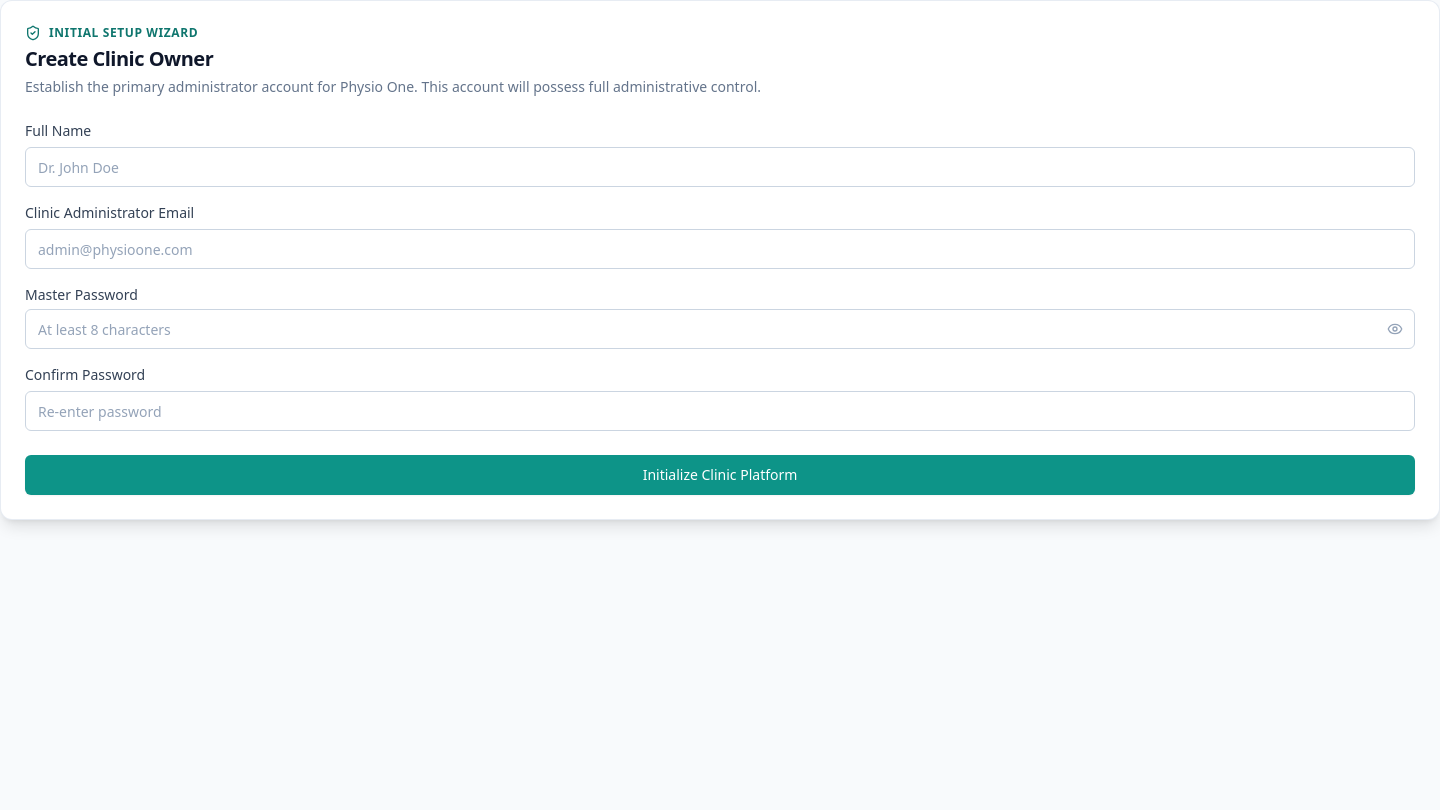
it: SetupPage › validates password mismatch before submission
Expected: the heading "Create Clinic Owner" is shown, [25,45,213,72]
Type "Dr. Test" into the field labelled "Full Name" at (720, 167), box [25,147,1415,187]
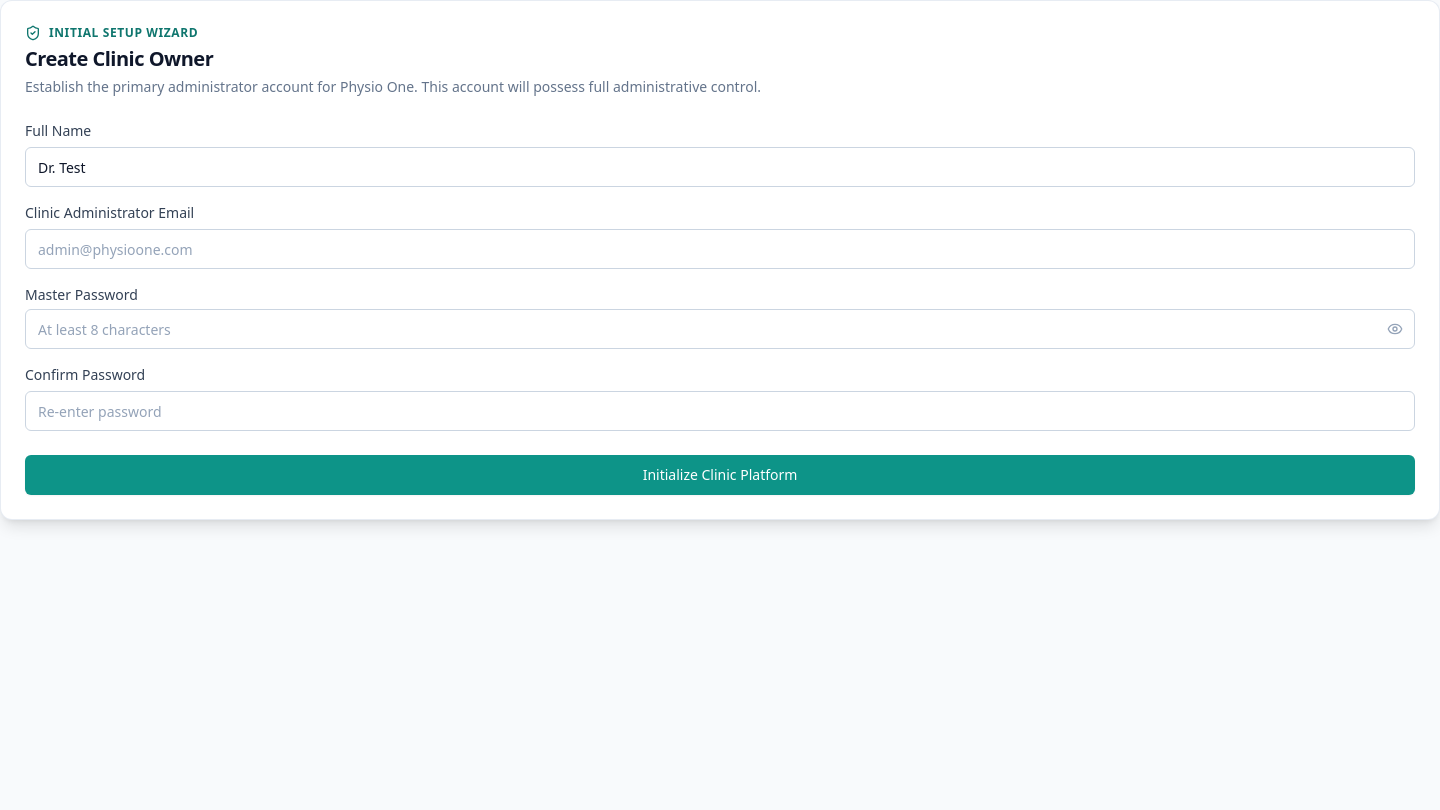
Type "admin@test.com" into the field labelled "Clinic Administrator Email" at (720, 249), box [25,229,1415,269]
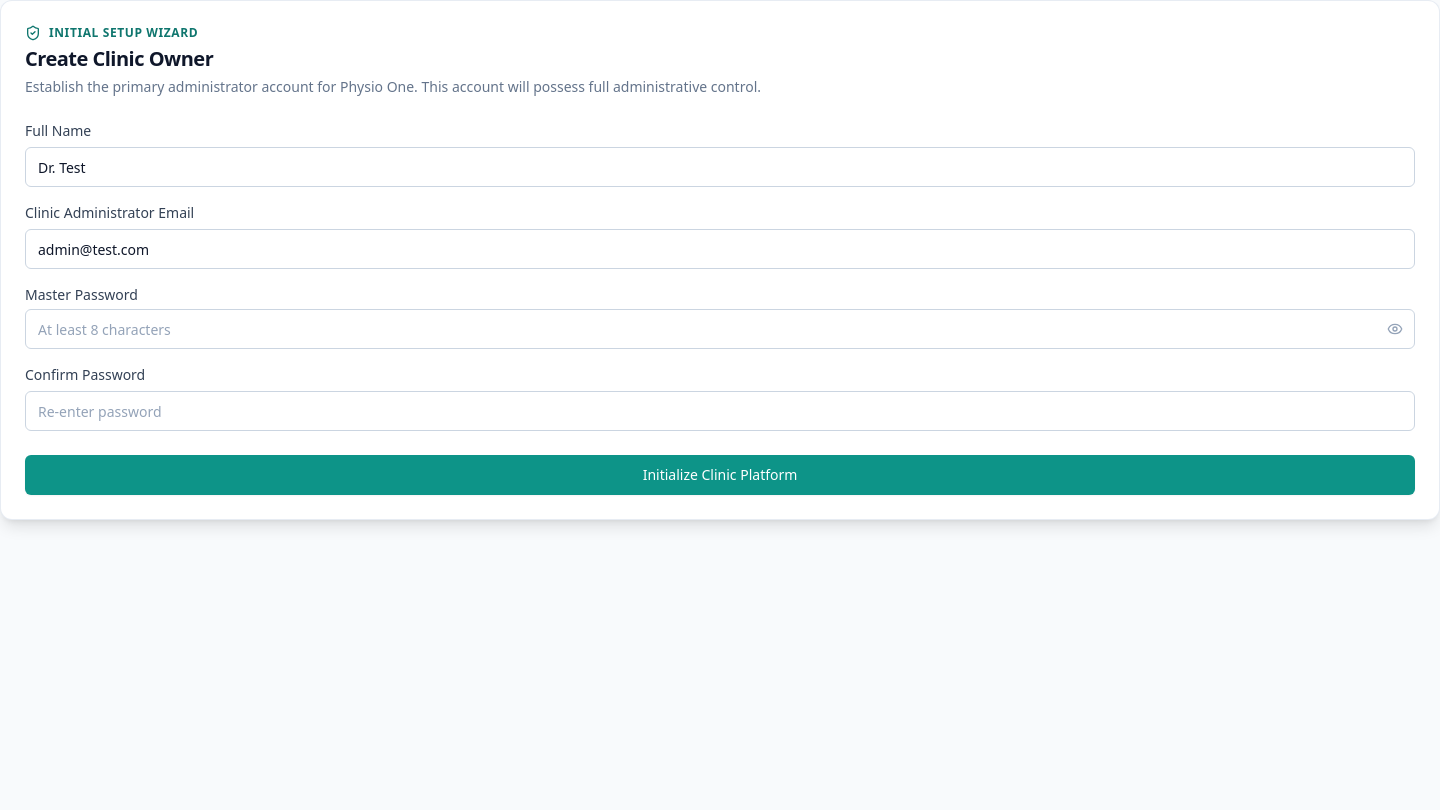
Type "password123" into the password field labelled "Master Password" at (720, 329), box [25,309,1415,349]
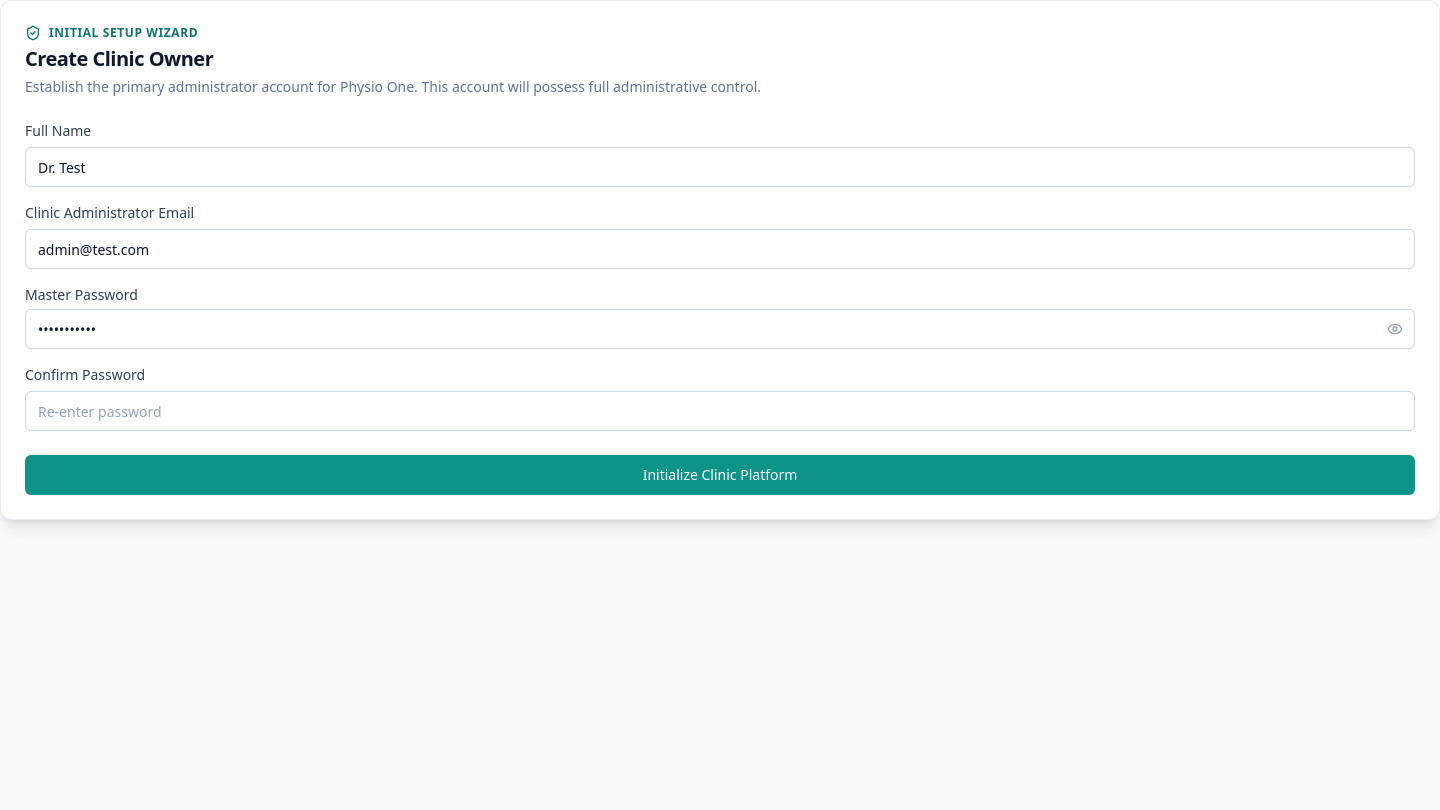
Type "differentpassword" into the password field labelled "Confirm Password" at (720, 411), box [25,391,1415,431]
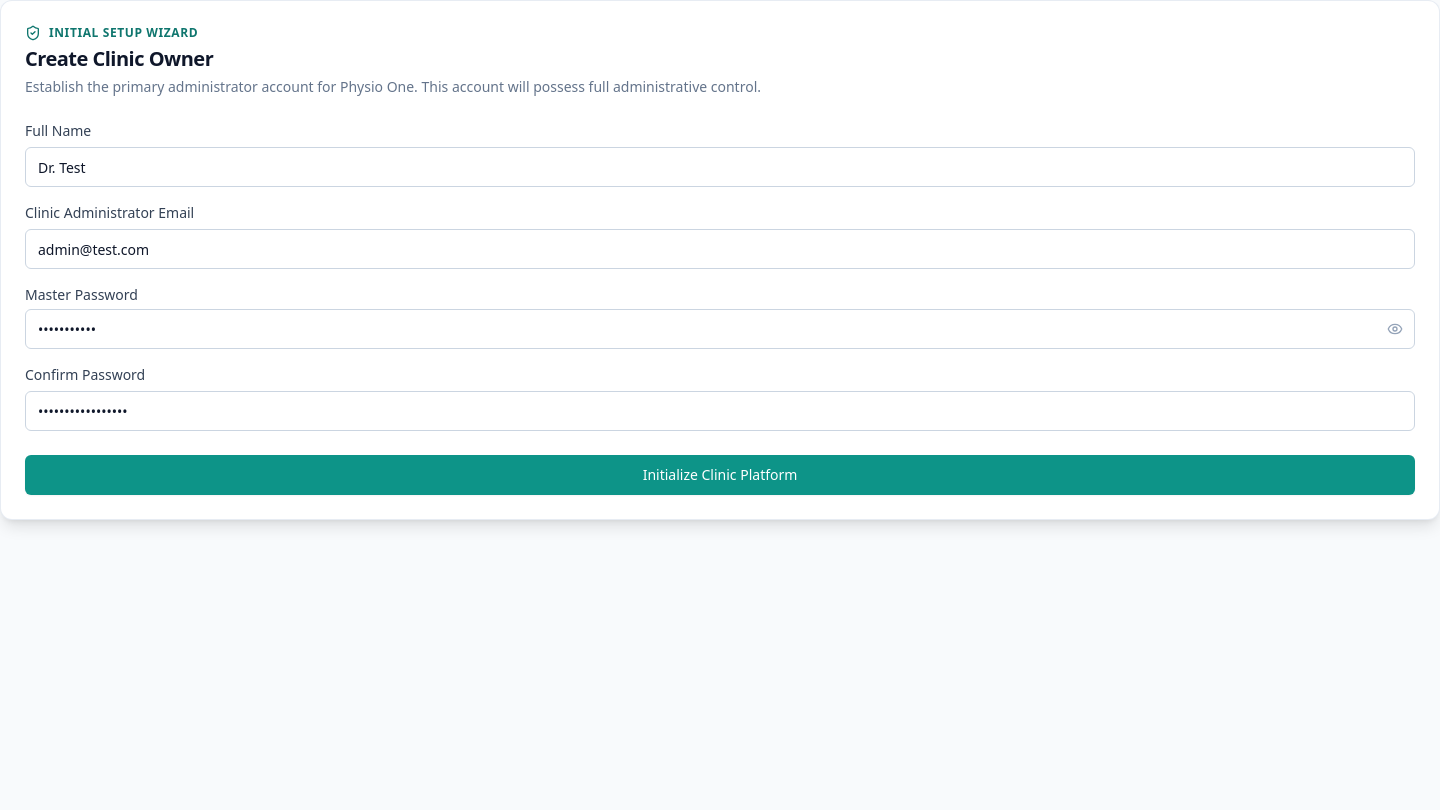
Click the button "Initialize Clinic Platform" at (720, 475), box [25,455,1415,495]
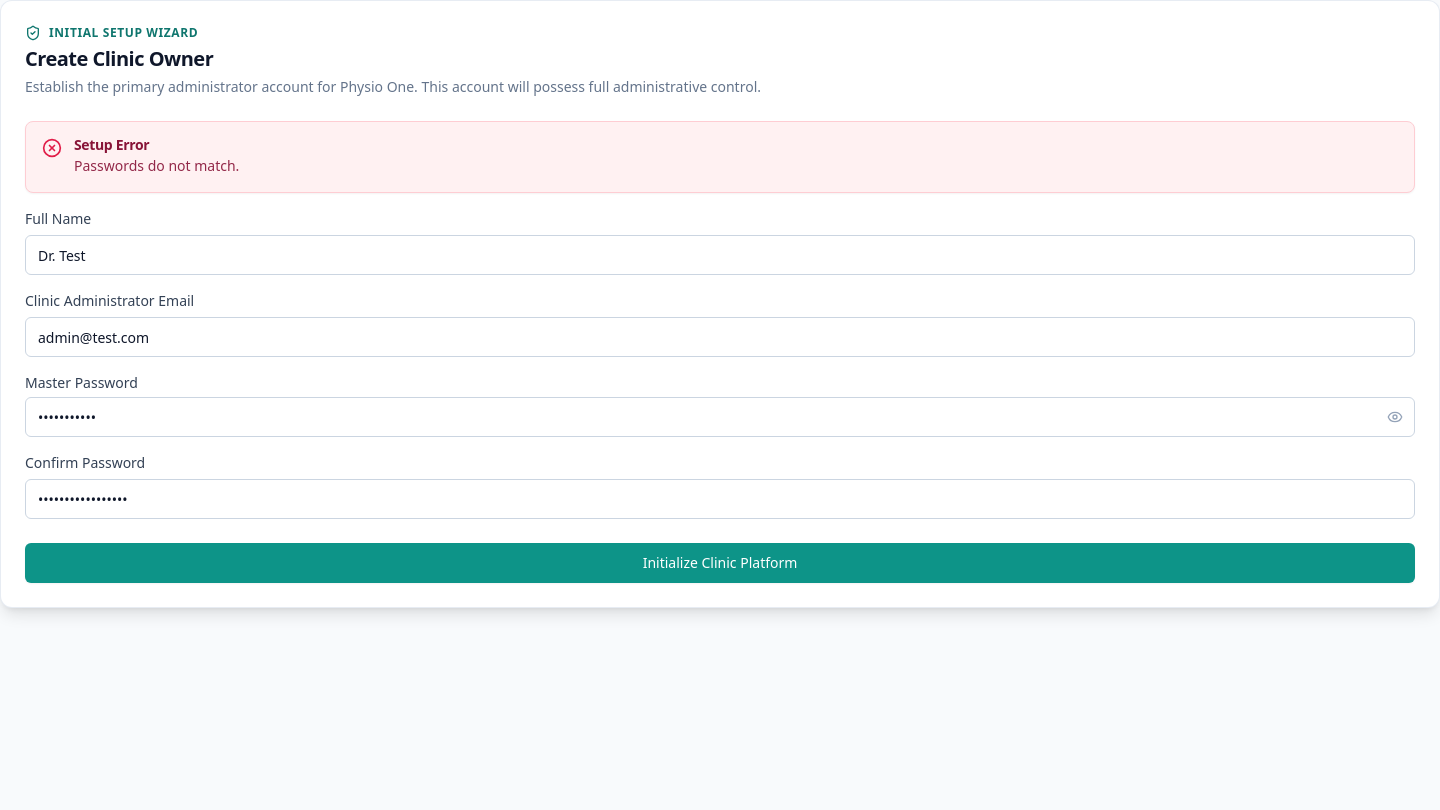
Now the text "Passwords do not match." is shown, box [74,156,239,175]
